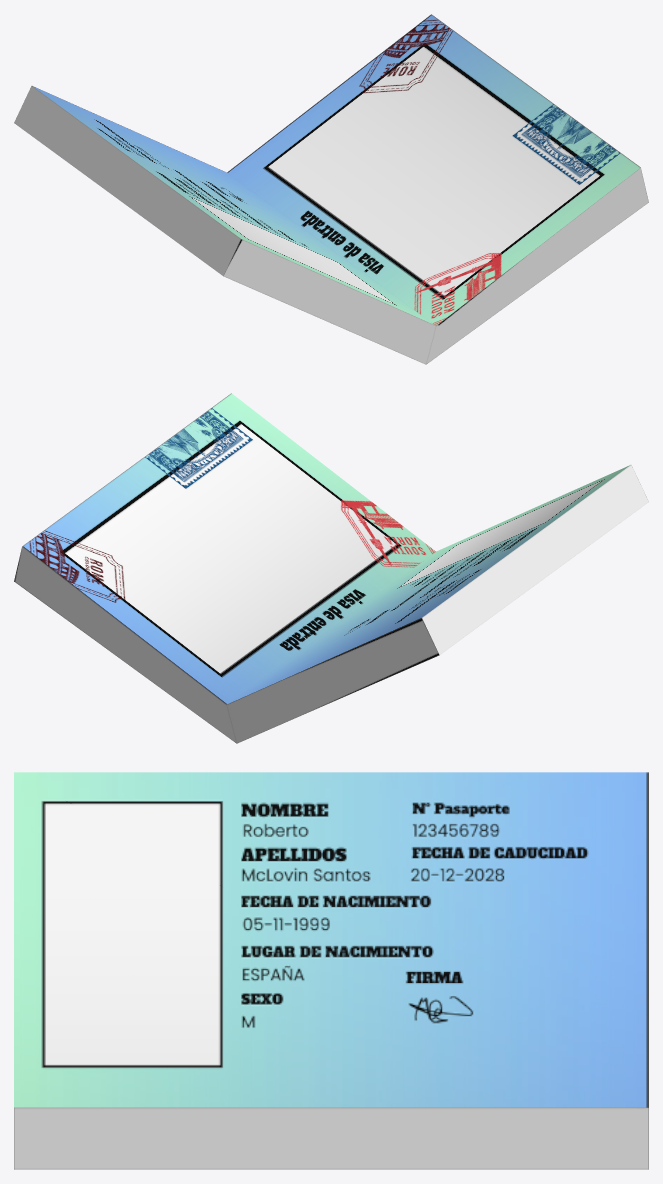
The model's file is pasaportelol.fbx.
3 renders of one model, top to bottom at view 1: azimuth 30°, elevation 25°; view 2: azimuth 150°, elevation 25°; view 3: azimuth 270°, elevation 25°, orthographic. The views are drawn at different scales.
Parts seen in each view (by area): view 1: pCube1; view 2: pCube1; view 3: pCube1.
Boxes of the visible parts, box(x1,y1,x2,y2) form: pCube1: box(14, 14, 648, 364); pCube1: box(14, 393, 648, 743); pCube1: box(14, 772, 648, 1169).
Size of the model in its own units: 0.5867 by 0.2254 by 0.5.
1 material, 1 textured.
